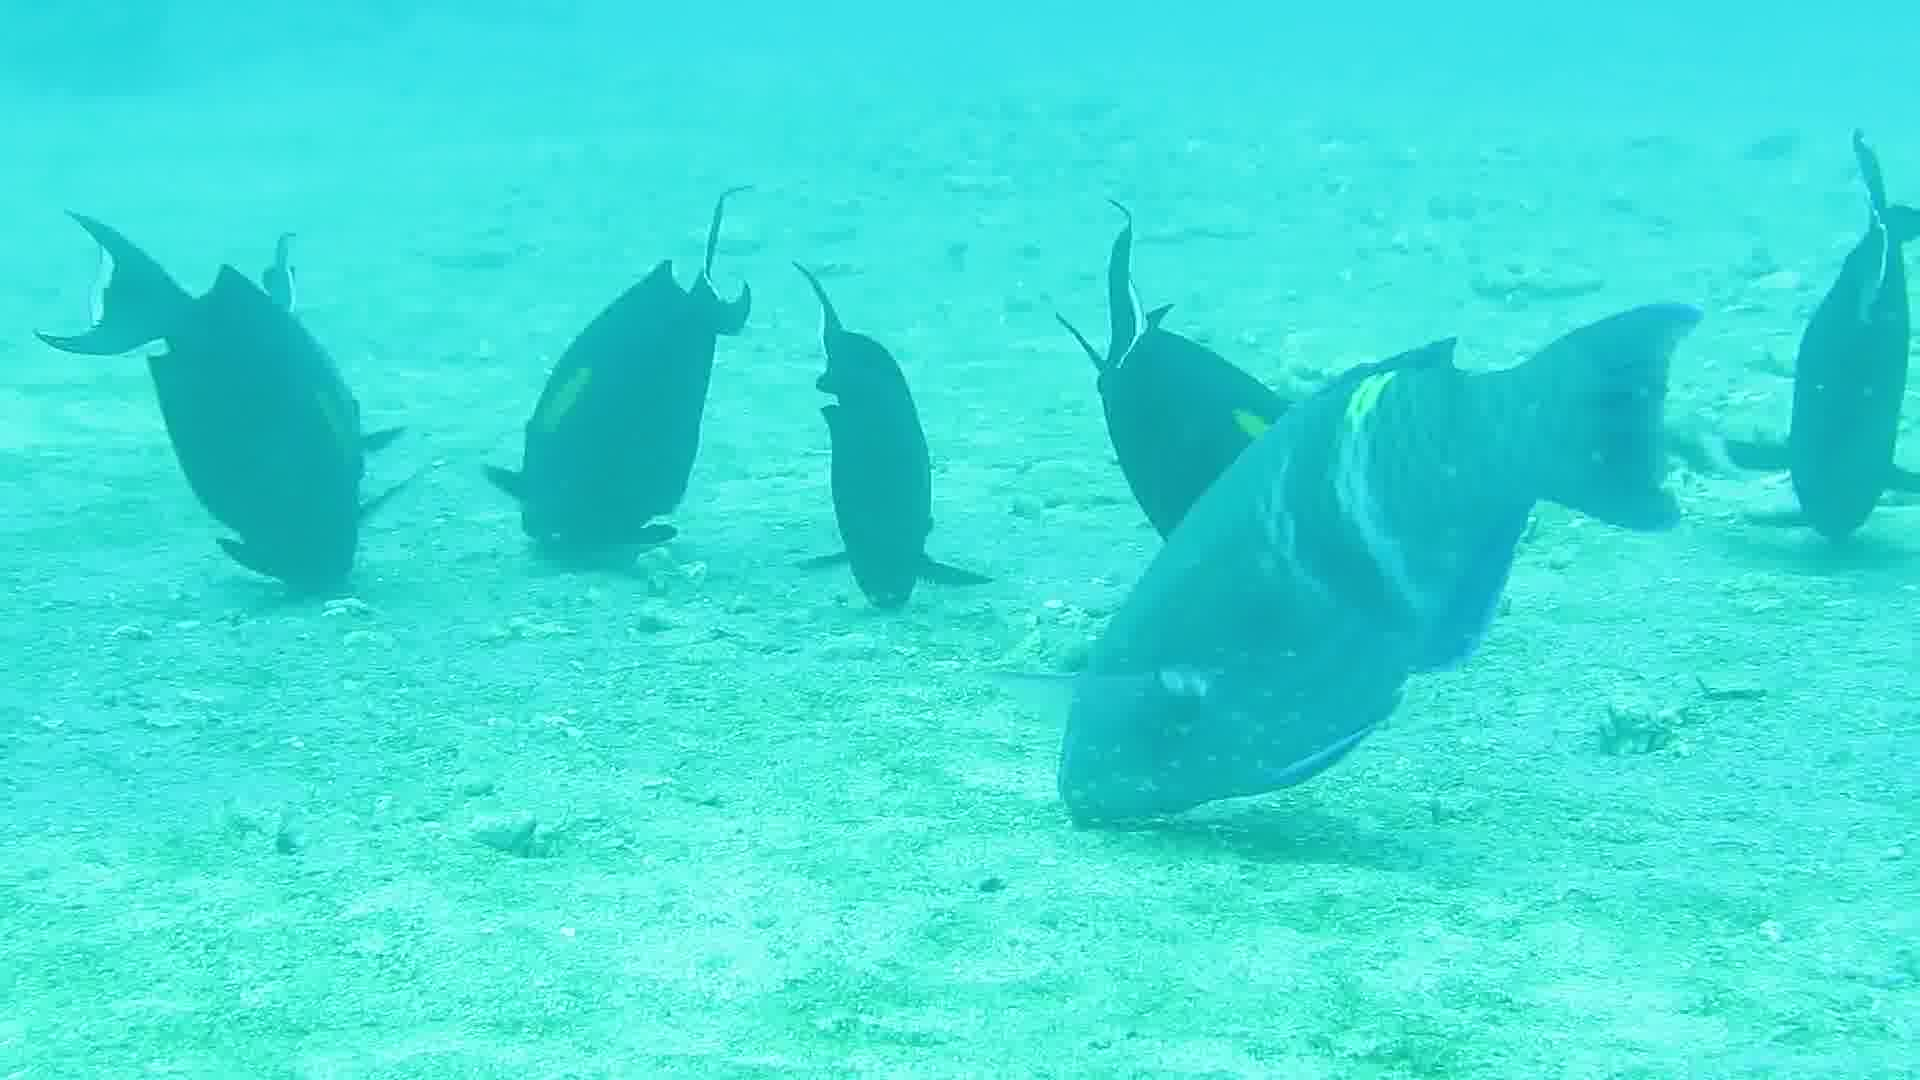Acanthurus olivaceus: (1035, 356, 1576, 822), (84, 167, 382, 633), (462, 170, 760, 636), (767, 249, 992, 671), (1784, 148, 1920, 582)
